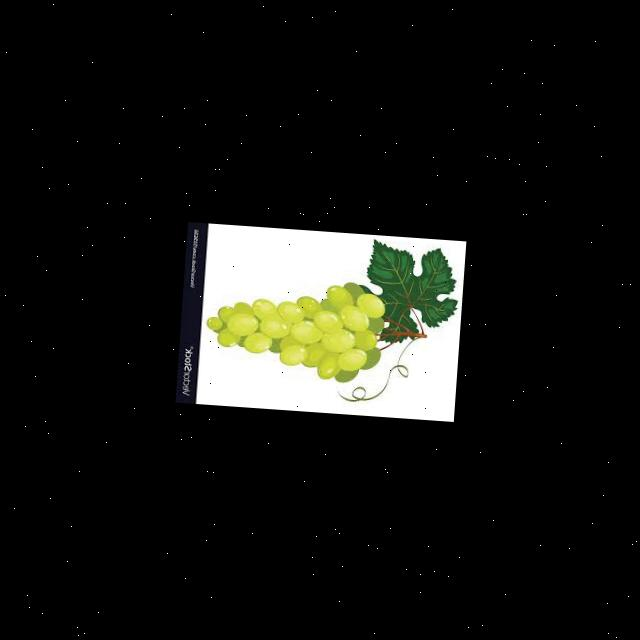grape: (202, 271, 388, 383)
